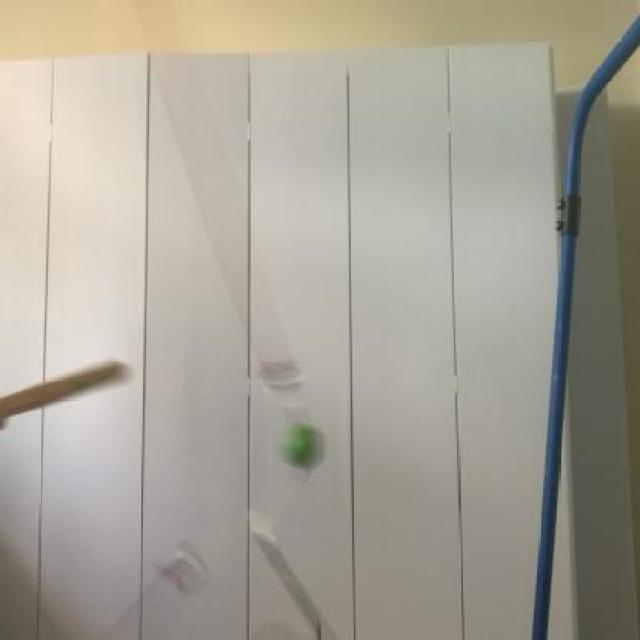baseball: (270, 414, 325, 464)
